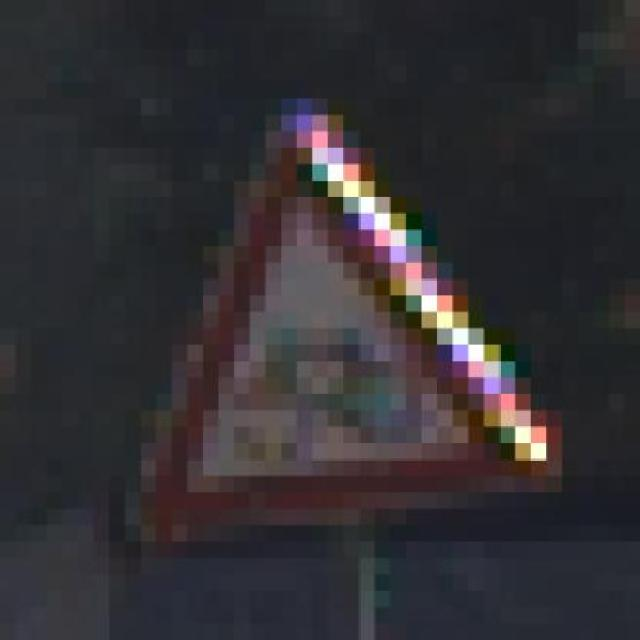CYCLE ROUTE AHEAD WARNING: (141, 66, 562, 574)
